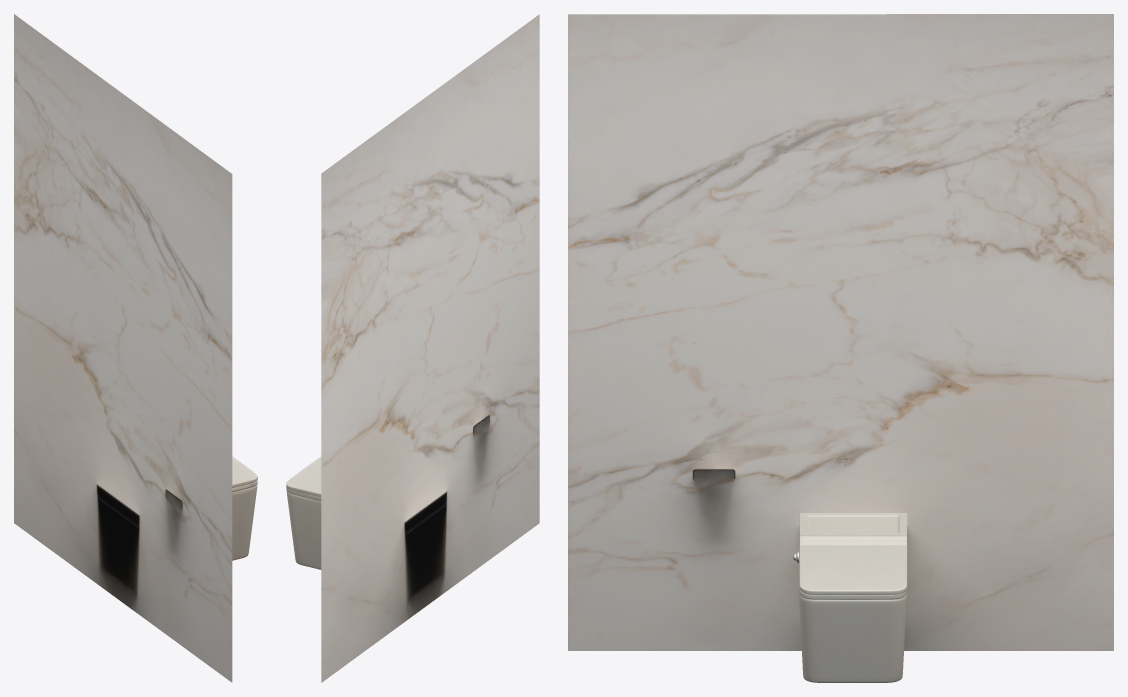
File: ewc_wm_tankless_s2.glb
3 views of the same model, side by side, from view 1: azimuth 30°, elevation 25°; view 2: azimuth 150°, elevation 25°; view 3: azimuth 270°, elevation 25° (orthographic). The views are drawn at different scales.
Visible parts, largest first — view 1: ewc_wm_tankless_s2; view 2: ewc_wm_tankless_s2; view 3: ewc_wm_tankless_s2.
Part boxes in pixels (left/top/right/bottom): ewc_wm_tankless_s2: left=14, top=14, right=257, bottom=682; ewc_wm_tankless_s2: left=286, top=14, right=539, bottom=682; ewc_wm_tankless_s2: left=568, top=14, right=1113, bottom=682.
Bounding box in the file's own units: 0.6293 × 2.5 × 1.94.
Materials: 1 (1 with a texture image).
